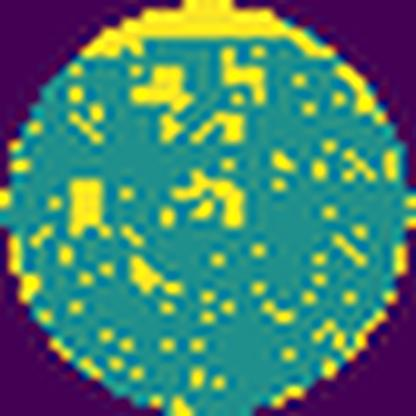Edge-Loc: (87, 0, 339, 57), (338, 62, 388, 127), (6, 231, 42, 304)
